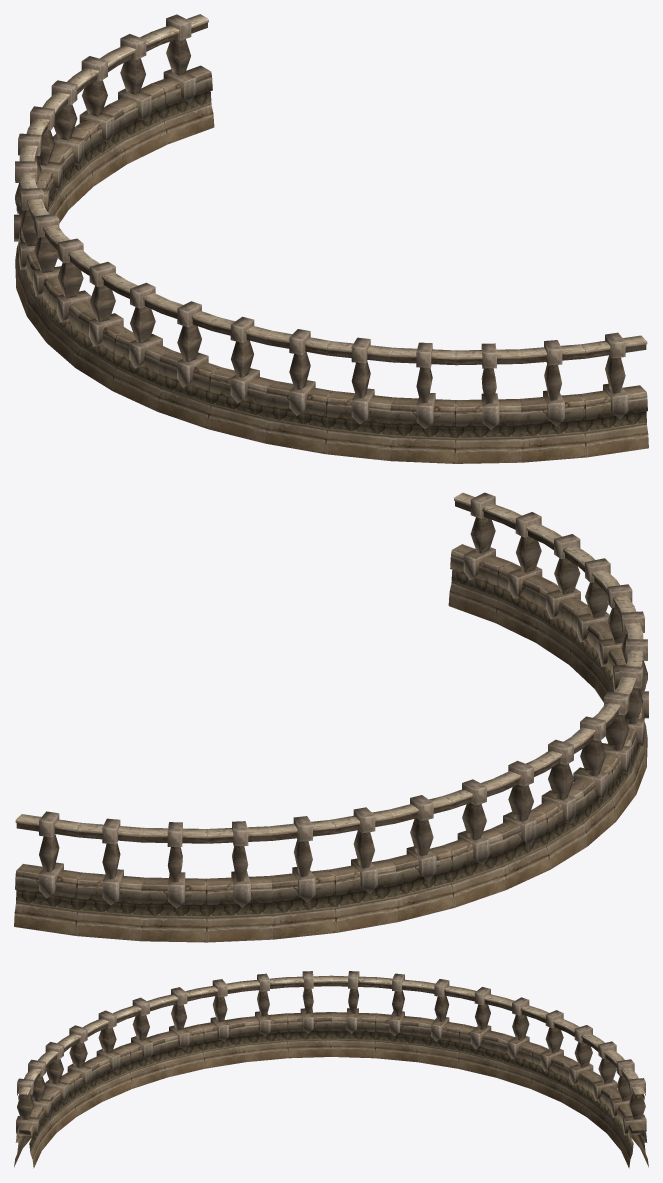
File: blsd4_hulan_002.FBX
3 renders of one model, top to bottom at view 1: azimuth 30°, elevation 25°; view 2: azimuth 150°, elevation 25°; view 3: azimuth 270°, elevation 25°, orthographic. The views are drawn at different scales.
Visible parts, largest first — view 1: blsd4_hulan_002; view 2: blsd4_hulan_002; view 3: blsd4_hulan_002.
Part boxes in pixels (left/top/right/bottom): blsd4_hulan_002: left=14, top=14, right=648, bottom=463; blsd4_hulan_002: left=14, top=492, right=648, bottom=942; blsd4_hulan_002: left=14, top=971, right=648, bottom=1168.
Size of the model in its own units: 520 by 157 by 1159.
